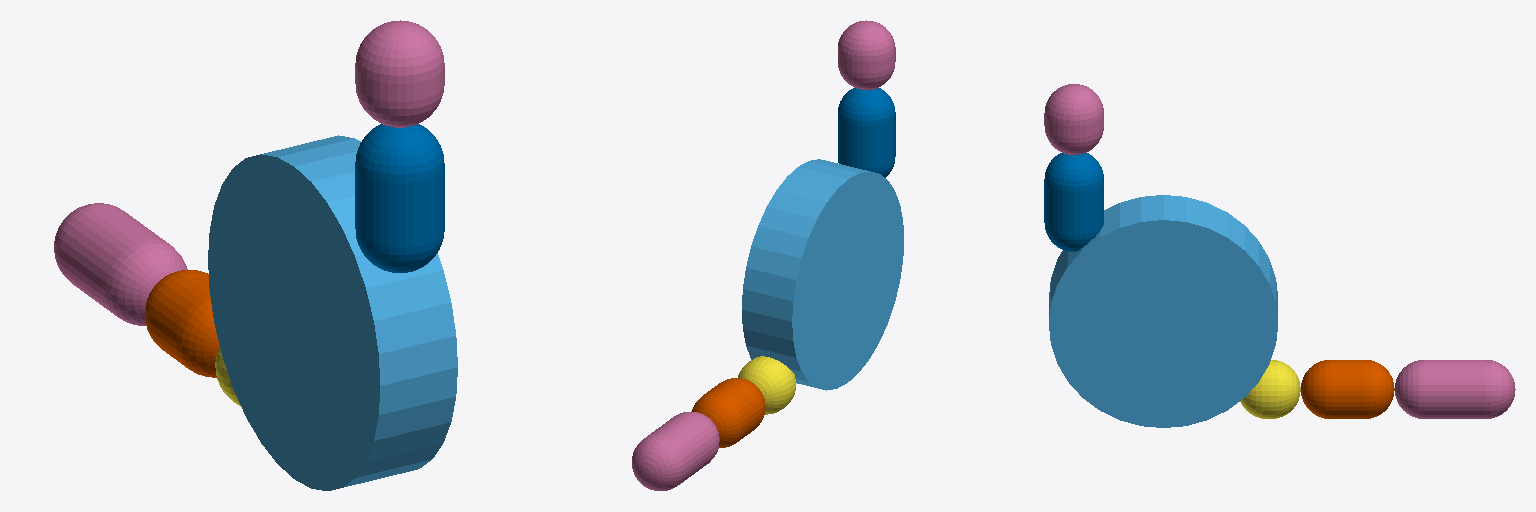
The robot description file, URDF, robot "DexterousHand":
<?xml version="1.0"?>
<robot name="DexterousHand">


    <link name="world"/>
    <joint name="world_to_palm" type="fixed">
        <parent link="world"/>
        <child link="palm"/>
        <origin xyz="0 0 0" rpy="0 0 0"/>
    </joint>
    <link name="palm">
        <inertial>
            <origin xyz="0 0 0.057" rpy="0 0 0"/>
            <mass value="0.30212892864"/>
            <inertia ixx="0.00049080844457568" ixy="0.0" ixz="0.0" iyy="0.00026746366246427523" iyz="0.0" izz="0.00026746366246427523"/>
        </inertial>
        <visual>
            <origin xyz="0 0 0.057" rpy="1.5708 0 1.5708"/>
            <geometry>
                <cylinder radius="0.057" length="0.0296"/>
            </geometry>
            <material name="default"/>
        </visual>
        <collision>
            <origin xyz="0 0 0.057" rpy="1.5708 0 1.5708"/>
            <geometry>
                <cylinder radius="0.057" length="0.0296"/>
            </geometry>
        </collision>
    </link>

    
    <joint name="thumb_joint1" type="revolute">
        <parent link="palm"/>
        <child link="thumb_base"/>
        <origin xyz="0.0029 0.0368 0.0157" rpy="-1.5708 -1.5708 0.0"/>
        <axis xyz="-1 0 0"/>
        <limit lower="-0.349" upper="2.094" effort="1.0" velocity="1.0"/>
    </joint>

    <link name="thumb_base"></link>

    <joint name="thumb_joint2" type="revolute">
        <parent link="thumb_base"/>
        <child link="thumb_proximal"/>
        <origin xyz="0.0 0.0 0.0" rpy="0.0 0.0 0.0"/>
        <axis xyz="0 0 1"/>
        <limit lower="-0.47" upper="2.443" effort="1.0" velocity="1.0"/>
    </joint>

    <link name="thumb_proximal">
        <inertial>
            <origin xyz="0 0 0.01565" rpy="0 0 0"/>
            <mass value="0.021538658803200002"/>
            <inertia ixx="2.9378910096388167e-06" ixy="0.0" ixz="0.0" 
            iyy="2.9378910096388167e-06" iyz="0.0" izz="2.358913912126464e-06"/>
        </inertial>
        <visual>
            <origin xyz="0 0 0.01565" rpy="0 0 0"/>
            <geometry>
                <cylinder radius="0.0148" length="0.0017000000000000001"/>
            </geometry>
            <material name="default"/>
        </visual>
        <visual>
            <origin xyz="0 0 0.0148" rpy="0 0 0"/>
            <geometry>
                <sphere radius="0.0148"/>
            </geometry>
            <material name="default"/>
        </visual>
        <visual>
            <origin xyz="0 0 0.0165" rpy="0 0 0"/>
            <geometry>
                <sphere radius="0.0148"/>
            </geometry>
            <material name="default"/>
        </visual>
        <collision>
            <origin xyz="0 0 0.01565" rpy="0 0 0"/>
            <geometry>
                <cylinder radius="0.0148" length="0.0017000000000000001"/>
            </geometry>
        </collision>
        <collision>
            <origin xyz="0 0 0.0148" rpy="0 0 0"/>
            <geometry>
                <sphere radius="0.0148"/>
            </geometry>
        </collision>
        <collision>
            <origin xyz="0 0 0.0165" rpy="0 0 0"/>
            <geometry>
                <sphere radius="0.0148"/>
            </geometry>
        </collision>
    </link>

    <joint name="thumb_joint3" type="revolute">
        <parent link="thumb_proximal"/>
        <child link="thumb_knuckle"/>
        <origin xyz="0.0 0.0 0.0313" rpy="0.0 0.0 0.0"/>
        <axis xyz="1 0 0"/>
        <limit lower="0.0" upper="0.0" effort="1.0" velocity="1.0"/>
    </joint>

    <link name="thumb_knuckle"></link>

    <joint name="thumb_joint4" type="revolute">
        <parent link="thumb_knuckle"/>
        <child link="thumb_middle"/>
        <origin xyz="0 0 0" rpy="0 0 0"/> 
        <axis xyz="0 1 0"/>
        <limit lower="-1.2" upper="1.9" effort="1.0" velocity="1.0"/>
    </joint>

    <link name="thumb_middle">
        <inertial>
            <origin xyz="0 0 0.0233" rpy="0 0 0"/>
            <mass value="0.032067140582400004"/>
            <inertia ixx="7.5589732685519385e-06" ixy="0.0" ixz="0.0" 
            iyy="7.5589732685519385e-06" iyz="0.0" izz="3.5119932365844485e-06"/>
        </inertial>
        <visual>
            <origin xyz="0 0 0.0233" rpy="0 0 0"/>
            <geometry>
                <cylinder radius="0.0148" length="0.017"/>
            </geometry>
            <material name="default"/>
        </visual>
        <visual>
            <origin xyz="0 0 0.0148" rpy="0 0 0"/>
            <geometry>
                <sphere radius="0.0148"/>
            </geometry>
            <material name="default"/>
        </visual>
        <visual>
            <origin xyz="0 0 0.0318" rpy="0 0 0"/>
            <geometry>
                <sphere radius="0.0148"/>
            </geometry>
            <material name="default"/>
        </visual>
        <collision>
            <origin xyz="0 0 0.0233" rpy="0 0 0"/>
            <geometry>
                <cylinder radius="0.0148" length="0.017"/>
            </geometry>
        </collision>
        <collision>
            <origin xyz="0 0 0.0148" rpy="0 0 0"/>
            <geometry>
                <sphere radius="0.0148"/>
            </geometry>
        </collision>
        <collision>
            <origin xyz="0 0 0.0318" rpy="0 0 0"/>
            <geometry>
                <sphere radius="0.0148"/>
            </geometry>
        </collision>
    </link>

    <joint name="thumb_joint5" type="revolute">
        <parent link="thumb_middle"/>
        <child link="thumb_distal"/>
        <origin xyz="0 0 0.0466" rpy="0 0 0"/> 
        <axis xyz="0 1 0"/>
        <limit lower="-1.34" upper="1.88" effort="1.0" velocity="1.0"/>
    </joint>

    <link name="thumb_distal">
        <inertial>
            <origin xyz="0 0 0.03" rpy="0 0 0"/>
            <mass value="0.04128816384"/>
            <inertia ixx="1.46473890038784e-05" ixy="0.0" ixz="0.0" 
            iyy="1.46473890038784e-05" iyz="0.0" izz="4.521879703756801e-06"/>
        </inertial>
        <visual>
            <origin xyz="0 0 0.03" rpy="0 0 0"/>
            <geometry>
                <cylinder radius="0.0148" length="0.030399999999999996"/>
            </geometry>
            <material name="default"/>
        </visual>
        <visual>
            <origin xyz="0 0 0.0148" rpy="0 0 0"/>
            <geometry>
                <sphere radius="0.0148"/>
            </geometry>
            <material name="default"/>
        </visual>
        <visual>
            <origin xyz="0 0 0.0452" rpy="0 0 0"/>
            <geometry>
                <sphere radius="0.0148"/>
            </geometry>
            <material name="default"/>
        </visual>
        <collision>
            <origin xyz="0 0 0.03" rpy="0 0 0"/>
            <geometry>
                <cylinder radius="0.0148" length="0.030399999999999996"/>
            </geometry>
        </collision>
        <collision>
            <origin xyz="0 0 0.0148" rpy="0 0 0"/>
            <geometry>
                <sphere radius="0.0148"/>
            </geometry>
        </collision>
        <collision>
            <origin xyz="0 0 0.0452" rpy="0 0 0"/>
            <geometry>
                <sphere radius="0.0148"/>
            </geometry>
        </collision>
    </link>

    
    <joint name="index_joint1" type="revolute">
        <parent link="palm"/>
        <child link="index_proximal"/>
        <origin xyz="0.0 0.0 0.0" rpy="0.0 0.0 0.0"/>
        <axis xyz="1 0 0"/>
        <limit lower="0.0" upper="0.0" effort="1.0" velocity="1.0"/>
    </joint>

    <link name="index_proximal">
    </link>

    <joint name="index_joint2" type="revolute">
        <parent link="index_proximal"/>
        <child link="index_dummy"/>
        <origin xyz="0.0 0.0 0.0" rpy="0.0 0.0 0.0"/>
        <axis xyz="0 1 0"/>
        <limit lower="0.0" upper="0.0" effort="1.0" velocity="1.0"/>
    </joint>

    <link name="index_dummy"></link>

    <joint name="index_joint3" type="revolute">
        <parent link="index_dummy"/>
        <child link="index_middle"/>
        <origin xyz="0 0 0" rpy="0 0 0"/>
        <axis xyz="0 1 0"/>
        <limit lower="0.0" upper="0.0" effort="1.0" velocity="1.0"/>
    </joint>

    <link name="index_middle">
    </link>

    <joint name="index_joint4" type="revolute">
        <parent link="index_middle"/>
        <child link="index_distal"/>
        <origin xyz="0 0 0" rpy="0 0 0"/> 
        <axis xyz="0 1 0"/>
        <limit lower="0.0" upper="0.0" effort="1.0" velocity="1.0"/>
    </joint>

    <link name="index_distal">
    </link>

    
    <joint name="middle_joint1" type="revolute">
        <parent link="palm"/>
        <child link="middle_proximal"/>
        <origin xyz="0.0 0.0 0.0" rpy="0.0 0.0 0.0"/>
        <axis xyz="1 0 0"/>
        <limit lower="0.0" upper="0.0" effort="1.0" velocity="1.0"/>
    </joint>

    <link name="middle_proximal">
    </link>

    <joint name="middle_joint2" type="revolute">
        <parent link="middle_proximal"/>
        <child link="middle_dummy"/>
        <origin xyz="0.0 0.0 0.0" rpy="0.0 0.0 0.0"/>
        <axis xyz="0 1 0"/>
        <limit lower="0.0" upper="0.0" effort="1.0" velocity="1.0"/>
    </joint>

    <link name="middle_dummy"></link>

    <joint name="middle_joint3" type="revolute">
        <parent link="middle_dummy"/>
        <child link="middle_middle"/>
        <origin xyz="0 0 0" rpy="0 0 0"/>
        <axis xyz="0 1 0"/>
        <limit lower="0.0" upper="0.0" effort="1.0" velocity="1.0"/>
    </joint>

    <link name="middle_middle">
    </link>

    <joint name="middle_joint4" type="revolute">
        <parent link="middle_middle"/>
        <child link="middle_distal"/>
        <origin xyz="0 0 0" rpy="0 0 0"/> 
        <axis xyz="0 1 0"/>
        <limit lower="0.0" upper="0.0" effort="1.0" velocity="1.0"/>
    </joint>

    <link name="middle_distal">
    </link>

    
    <joint name="ring_joint1" type="revolute">
        <parent link="palm"/>
        <child link="ring_proximal"/>
        <origin xyz="0.0 0.0 0.0" rpy="0.0 0.0 0.0"/>
        <axis xyz="1 0 0"/>
        <limit lower="0.0" upper="0.0" effort="1.0" velocity="1.0"/>
    </joint>

    <link name="ring_proximal">
    </link>

    <joint name="ring_joint2" type="revolute">
        <parent link="ring_proximal"/>
        <child link="ring_dummy"/>
        <origin xyz="0.0 0.0 0.0" rpy="0.0 0.0 0.0"/>
        <axis xyz="0 1 0"/>
        <limit lower="0.0" upper="0.0" effort="1.0" velocity="1.0"/>
    </joint>

    <link name="ring_dummy"></link>

    <joint name="ring_joint3" type="revolute">
        <parent link="ring_dummy"/>
        <child link="ring_middle"/>
        <origin xyz="0 0 0" rpy="0 0 0"/>
        <axis xyz="0 1 0"/>
        <limit lower="0.0" upper="0.0" effort="1.0" velocity="1.0"/>
    </joint>

    <link name="ring_middle">
    </link>

    <joint name="ring_joint4" type="revolute">
        <parent link="ring_middle"/>
        <child link="ring_distal"/>
        <origin xyz="0 0 0" rpy="0 0 0"/> 
        <axis xyz="0 1 0"/>
        <limit lower="0.0" upper="0.0" effort="1.0" velocity="1.0"/>
    </joint>

    <link name="ring_distal">
    </link>

    
    <joint name="little_joint0" type="revolute">
        <parent link="palm"/>
        <child link="little_base"/>
        <origin xyz="0.0 0.0 0.0" rpy="0.0 0.0 0.0"/>
        <axis xyz="0 1 0"/>
        <limit lower="0.0" upper="0.0" effort="1.0" velocity="1.0"/>
    </joint>

    <link name="little_base"></link>

    <joint name="little_joint1" type="revolute">
        <parent link="little_base"/>
        <child link="little_proximal"/>
        <origin xyz="0.0 -0.0443 0.091" rpy="-0.0 -0.0 -0.0"/>
        <axis xyz="0 1 0"/>
        <limit lower="-0.314" upper="2.23" effort="1.0" velocity="1.0"/>
    </joint>

    <link name="little_proximal">
        <inertial>
            <origin xyz="0 0 0.02655" rpy="0 0 0"/>
            <mass value="0.036540024998400006"/>
            <inertia ixx="1.058665009272394e-05" ixy="0.0" ixz="0.0" 
            iyy="1.058665009272394e-05" iyz="0.0" izz="4.001863537824769e-06"/>
        </inertial>
        <visual>
            <origin xyz="0 0 0.02655" rpy="0 0 0"/>
            <geometry>
                <cylinder radius="0.0148" length="0.0235"/>
            </geometry>
            <material name="default"/>
        </visual>
        <visual>
            <origin xyz="0 0 0.0148" rpy="0 0 0"/>
            <geometry>
                <sphere radius="0.0148"/>
            </geometry>
            <material name="default"/>
        </visual>
        <visual>
            <origin xyz="0 0 0.0383" rpy="0 0 0"/>
            <geometry>
                <sphere radius="0.0148"/>
            </geometry>
            <material name="default"/>
        </visual>
        <collision>
            <origin xyz="0 0 0.02655" rpy="0 0 0"/>
            <geometry>
                <cylinder radius="0.0148" length="0.0235"/>
            </geometry>
        </collision>
        <collision>
            <origin xyz="0 0 0.0148" rpy="0 0 0"/>
            <geometry>
                <sphere radius="0.0148"/>
            </geometry>
        </collision>
        <collision>
            <origin xyz="0 0 0.0383" rpy="0 0 0"/>
            <geometry>
                <sphere radius="0.0148"/>
            </geometry>
        </collision>
    </link>

    <joint name="little_joint2" type="revolute">
        <parent link="little_proximal"/>
        <child link="little_dummy"/>
        <origin xyz="0.0 0.0 0.038" rpy="0.0 0.0 0.0"/>
        <axis xyz="1 0 0"/>
        <limit lower="-1.047" upper="1.047" effort="1.0" velocity="1.0"/>
    </joint>

    <link name="little_dummy"></link>

    <joint name="little_joint3" type="revolute">
        <parent link="little_dummy"/>
        <child link="little_middle"/>
        <origin xyz="0 0 0.015100000000000002" rpy="0 0 0"/>
        <axis xyz="0 1 0"/>
        <limit lower="-0.506" upper="1.885" effort="1.0" velocity="1.0"/>
    </joint>

    <link name="little_middle">
        <inertial>
            <origin xyz="0 0 0.01805" rpy="0 0 0"/>
            <mass value="0.0248417119104"/>
            <inertia ixx="4.058162759109537e-06" ixy="0.0" ixz="0.0" 
            iyy="4.058162759109537e-06" iyz="0.0" izz="2.7206642884270085e-06"/>
        </inertial>
        <visual>
            <origin xyz="0 0 0.01805" rpy="0 0 0"/>
            <geometry>
                <cylinder radius="0.0148" length="0.006499999999999999"/>
            </geometry>
            <material name="default"/>
        </visual>
        <visual>
            <origin xyz="0 0 0.0148" rpy="0 0 0"/>
            <geometry>
                <sphere radius="0.0148"/>
            </geometry>
            <material name="default"/>
        </visual>
        <visual>
            <origin xyz="0 0 0.0213" rpy="0 0 0"/>
            <geometry>
                <sphere radius="0.0148"/>
            </geometry>
            <material name="default"/>
        </visual>
        <collision>
            <origin xyz="0 0 0.01805" rpy="0 0 0"/>
            <geometry>
                <cylinder radius="0.0148" length="0.006499999999999999"/>
            </geometry>
        </collision>
        <collision>
            <origin xyz="0 0 0.0148" rpy="0 0 0"/>
            <geometry>
                <sphere radius="0.0148"/>
            </geometry>
        </collision>
        <collision>
            <origin xyz="0 0 0.0213" rpy="0 0 0"/>
            <geometry>
                <sphere radius="0.0148"/>
            </geometry>
        </collision>
    </link>

    <joint name="little_joint4" type="revolute">
        <parent link="little_middle"/>
        <child link="little_distal"/>
        <origin xyz="0 0 0.0361" rpy="0 0 0"/>
        <axis xyz="0 1 0"/>
        <limit lower="0.0" upper="0.0" effort="1.0" velocity="1.0"/>
    </joint>

    <link name="little_distal">
    </link>

</robot>

--- Facts derived from the render (not from the file) ---
3 views of the same robot in one strip: view 1: azimuth 30°, elevation 25°; view 2: azimuth 150°, elevation 25°; view 3: azimuth 270°, elevation 25° (orthographic).
Robot: DexterousHand — 24 links, 23 joints (22 revolute, 1 fixed); root link world; default pose: every joint at zero.
Visible links, largest first — view 1: palm, little_proximal, thumb_distal, little_middle, thumb_middle; view 2: palm, thumb_distal, little_proximal, little_middle, thumb_middle, thumb_proximal; view 3: palm, thumb_distal, little_proximal, thumb_middle, little_middle, thumb_proximal.
Link boxes in pixels (x1,y1,x2,y2): palm: (208,135,457,490); little_proximal: (355,124,444,272); thumb_distal: (54,203,187,325); little_middle: (355,20,444,127); thumb_middle: (145,270,219,377); palm: (742,159,903,390); thumb_distal: (632,411,719,490); little_proximal: (838,88,895,177); little_middle: (838,20,895,89); thumb_middle: (692,378,765,447); thumb_proximal: (738,356,795,414); palm: (1049,195,1277,427); thumb_distal: (1395,360,1515,418); little_proximal: (1044,153,1103,251); thumb_middle: (1301,360,1394,418); little_middle: (1044,84,1103,154); thumb_proximal: (1240,360,1300,418).
Bounding box of the posed robot: 0.0325 × 0.2338 × 0.1802 m (x, y, z).
Geometry: primitives only (box / cylinder / sphere), no mesh files.
